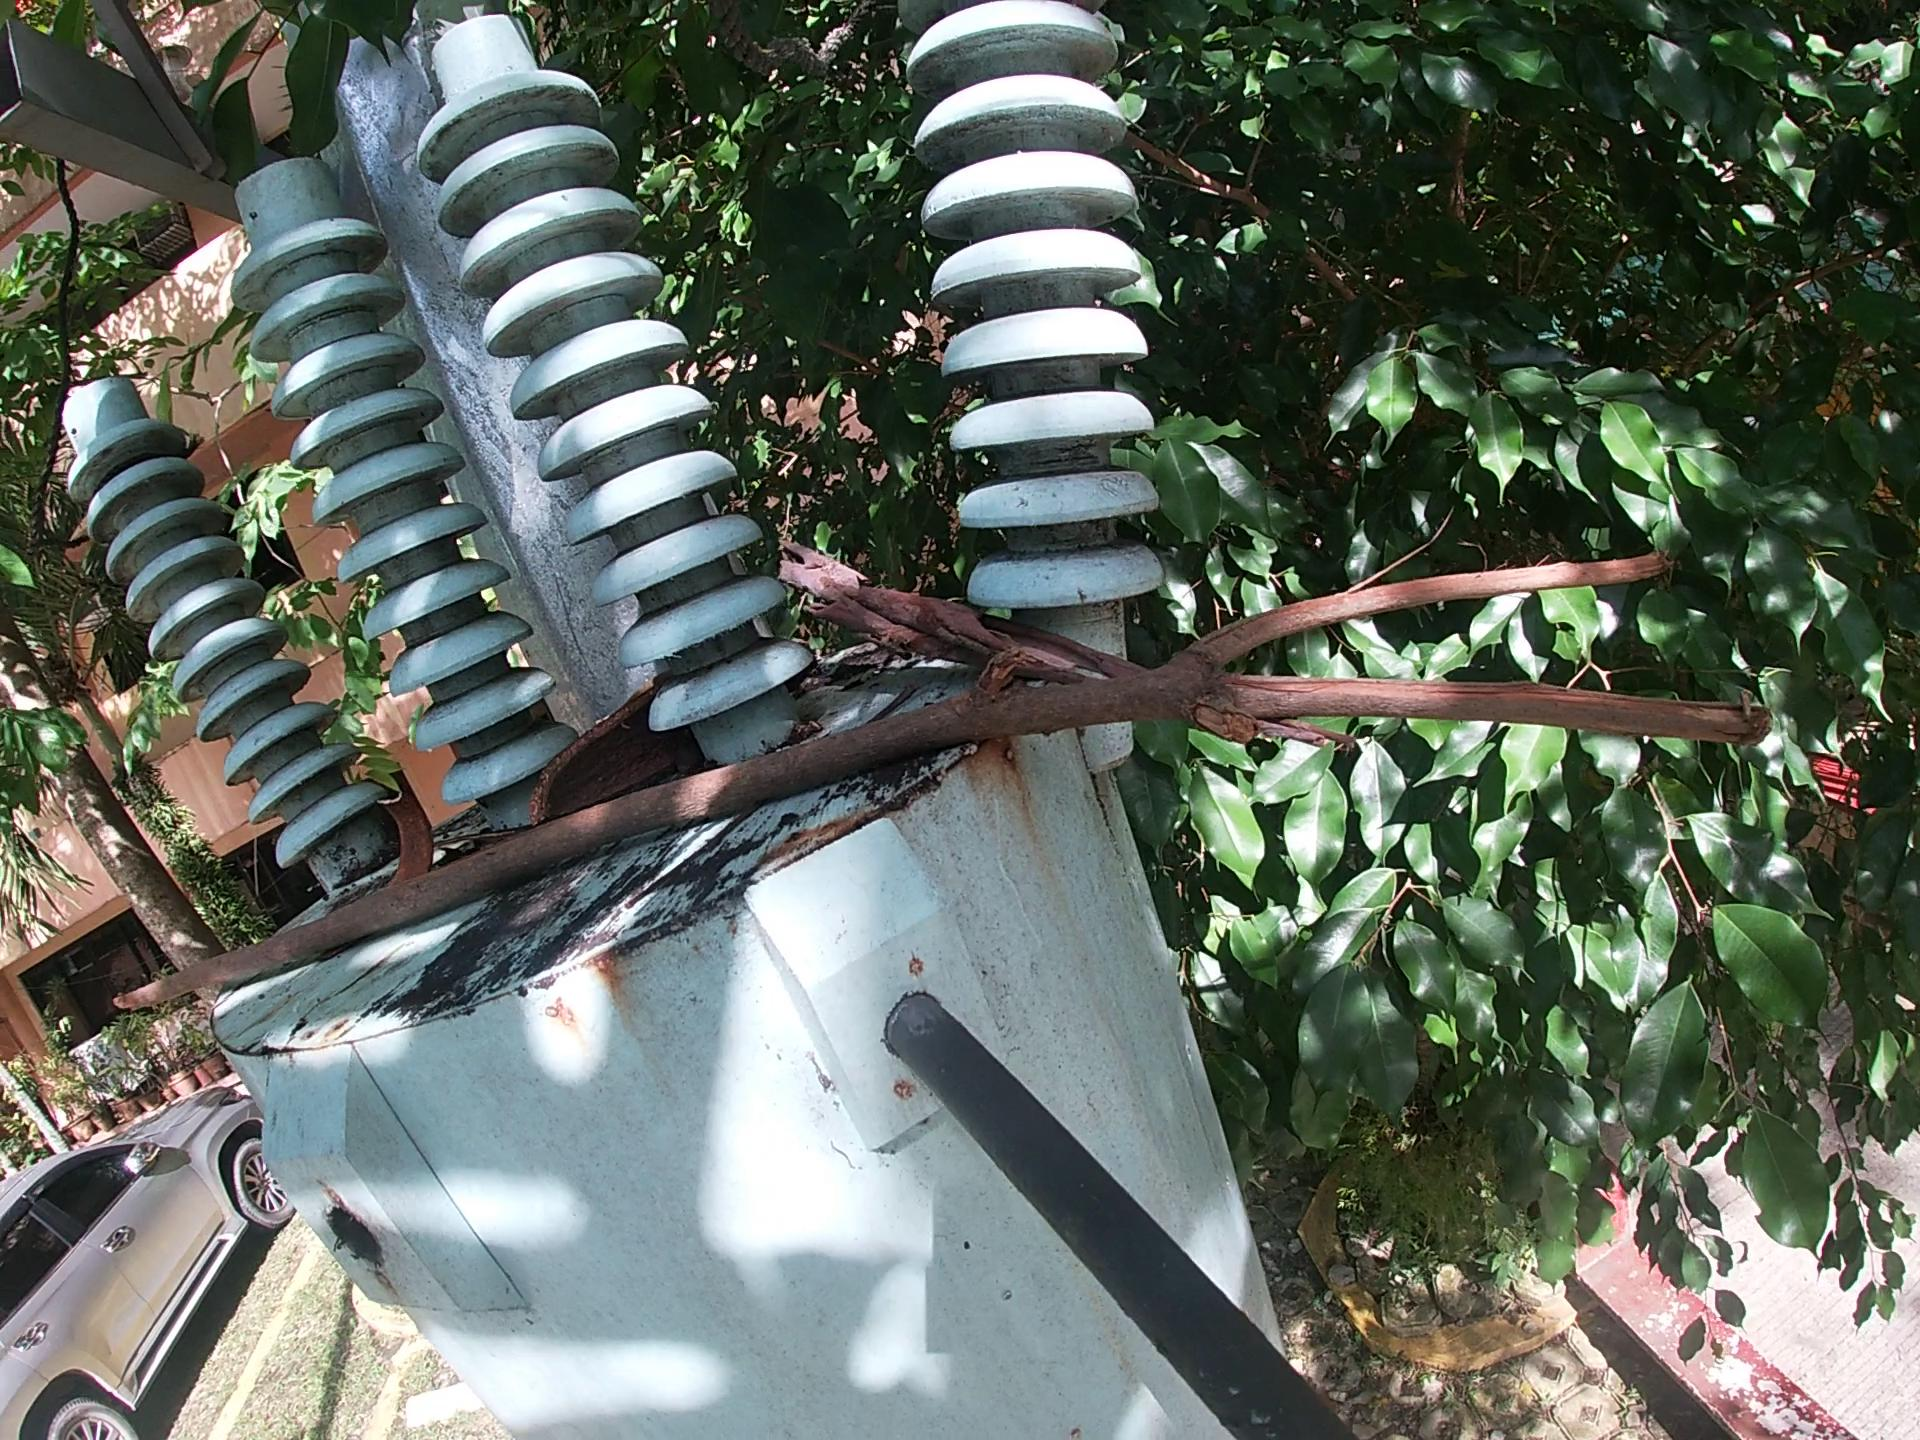mahogany fruit: (529, 688, 671, 843), (367, 782, 435, 886)
tree branch: (98, 534, 1838, 1013), (630, 664, 927, 923), (776, 540, 1181, 722), (440, 812, 532, 858)
